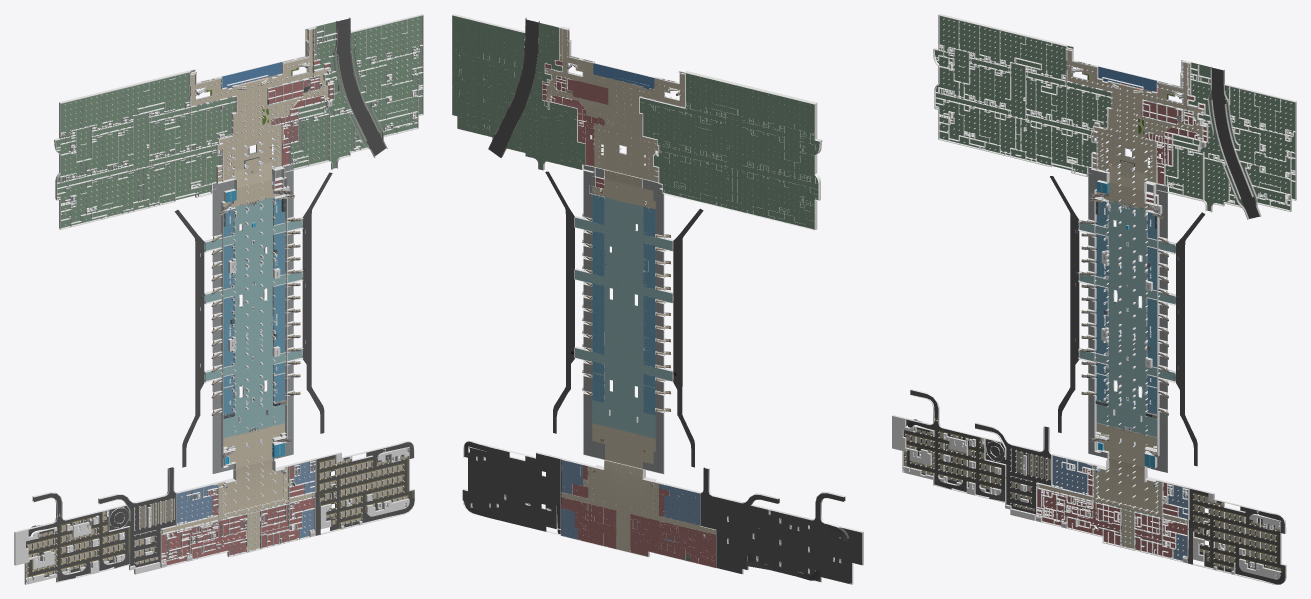
The model's file is 2_B1_LayerArri_Pack.gltf.
3 views of the same model, side by side, from view 1: azimuth 30°, elevation 25°; view 2: azimuth 150°, elevation 25°; view 3: azimuth 330°, elevation 25° (orthographic).
Parts seen in each view (by area): view 1: object 1, object 22, object 12, object 7, object 19, object 4, SM_B1_LayerArri_EsToRailPlSet_Ins_N; view 2: object 1, object 22, object 12, object 7, SM_B1_LayerArri_EsToRailPlSet_Ins_S; view 3: object 1, object 22, object 12, object 7, object 19, object 4, SM_B1_LayerArri_EsToRailPlSet_Ins_S.
Boxes of the visible parts, x1,y1,x2,y2 form: object 1: (14, 14, 423, 584); object 22: (26, 16, 421, 577); object 12: (26, 18, 414, 581); object 7: (162, 46, 331, 567); object 19: (207, 17, 387, 171); object 4: (189, 33, 314, 550); SM_B1_LayerArri_EsToRailPlSet_Ins_N: (285, 218, 300, 395); object 1: (452, 14, 863, 584); object 22: (452, 15, 819, 535); object 12: (462, 19, 862, 583); object 7: (553, 31, 677, 451); SM_B1_LayerArri_EsToRailPlSet_Ins_S: (655, 234, 670, 411); object 1: (892, 14, 1296, 563); object 22: (903, 16, 1295, 584); object 12: (903, 67, 1285, 584); object 7: (1036, 61, 1204, 562); object 19: (1084, 66, 1261, 219); object 4: (1065, 60, 1188, 547); SM_B1_LayerArri_EsToRailPlSet_Ins_S: (1081, 220, 1096, 395).
Size of the model in its own units: 706 by 839 by 21.57.
63 materials, 42 textured.
